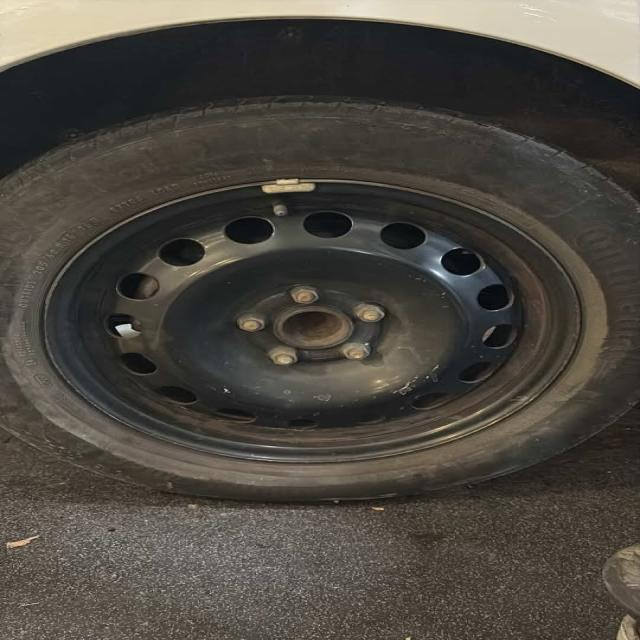jante: (45, 177, 588, 464)
parafuso: (328, 338, 383, 366), (256, 345, 308, 370), (278, 287, 328, 312), (346, 301, 393, 325), (229, 316, 270, 338)
roda: (0, 98, 640, 502)
